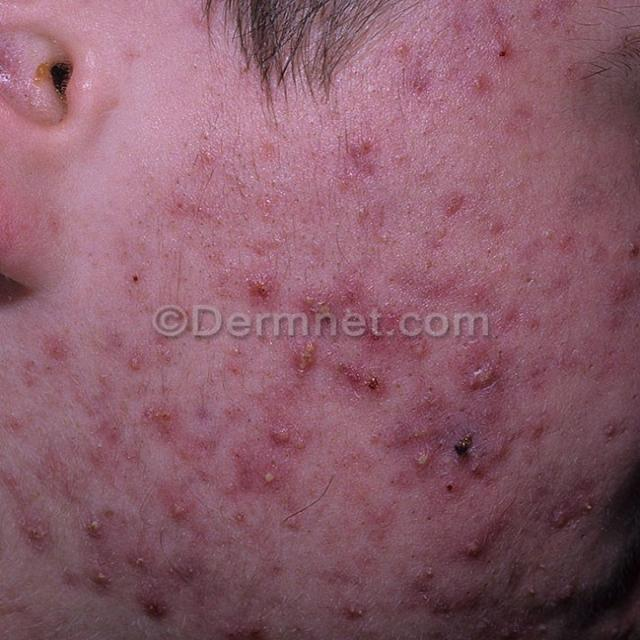Acne: (333, 357, 395, 401), (12, 508, 64, 560), (259, 420, 316, 456), (140, 397, 182, 437), (248, 459, 294, 494), (242, 271, 284, 309), (132, 586, 174, 624), (167, 552, 210, 588), (288, 337, 324, 379), (78, 508, 118, 544), (161, 492, 199, 525), (344, 132, 384, 162), (122, 347, 156, 379), (436, 190, 471, 220), (336, 596, 371, 626), (457, 534, 492, 562), (126, 546, 156, 578), (408, 446, 438, 476), (464, 68, 494, 98), (543, 504, 573, 533), (191, 145, 227, 169), (596, 417, 630, 442), (84, 562, 114, 590), (489, 37, 517, 65), (470, 362, 498, 390), (618, 232, 640, 266), (390, 38, 414, 61)
